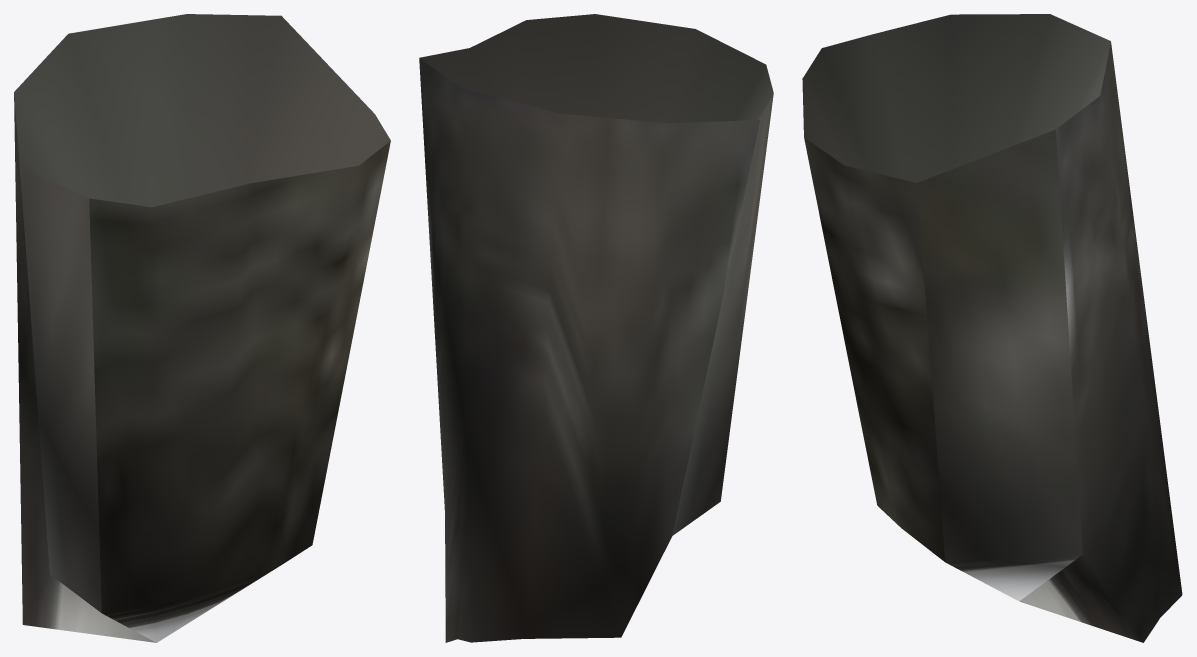
The model's file is shin.fbx.
3 renders of one model, left to right at view 1: azimuth 30°, elevation 25°; view 2: azimuth 150°, elevation 25°; view 3: azimuth 270°, elevation 25°, orthographic. The views are drawn at different scales.
Visible parts, largest first — view 1: Mesh_005; view 2: Mesh_005; view 3: Mesh_005.
Part boxes in pixels (x1,y1,x2,y2): Mesh_005: (14, 14, 390, 642); Mesh_005: (419, 14, 773, 642); Mesh_005: (802, 14, 1182, 642).
Size of the model in its own units: 2.64 by 4.44 by 2.77.
